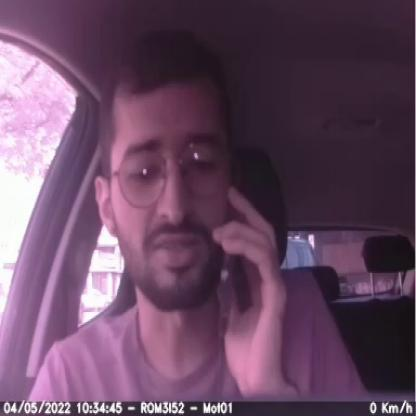phone: (212, 179, 263, 349)
